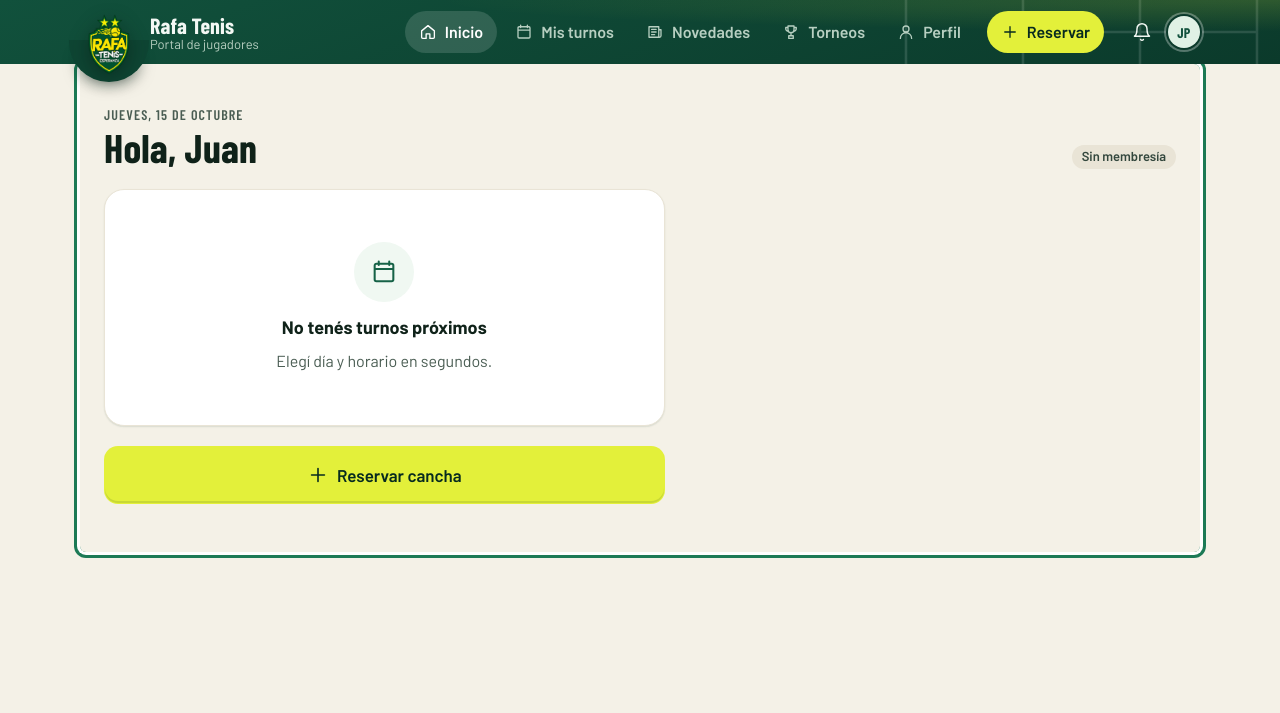
Test case: PlayerPortal › muestra el inicio del jugador y avisa que las reservas online están pausadas cuando el club no las activó
The width and height of the screenshot is (1280, 713).
Expected: the heading "Hola, Juan" is shown, [104,125,257,169]
Expected: the text "Sin membresía" is shown, [1072,145,1176,169]
Click the button "Reservar cancha" at (384, 475), box [104,446,664,504]
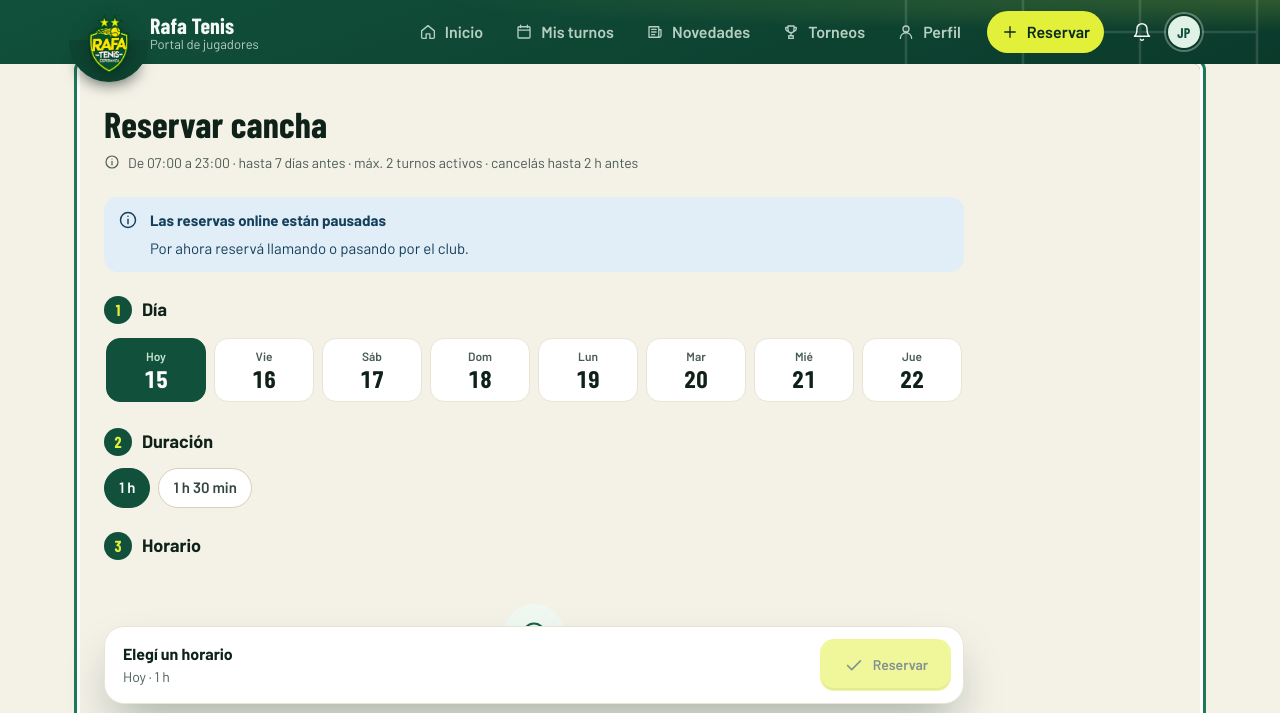
Result: the text "Las reservas online están pausadas" is shown at [150,211,386,229]
Result: the button "Reservar" in the row of "Elegí un horario" is disabled at [820,639,951,691]
